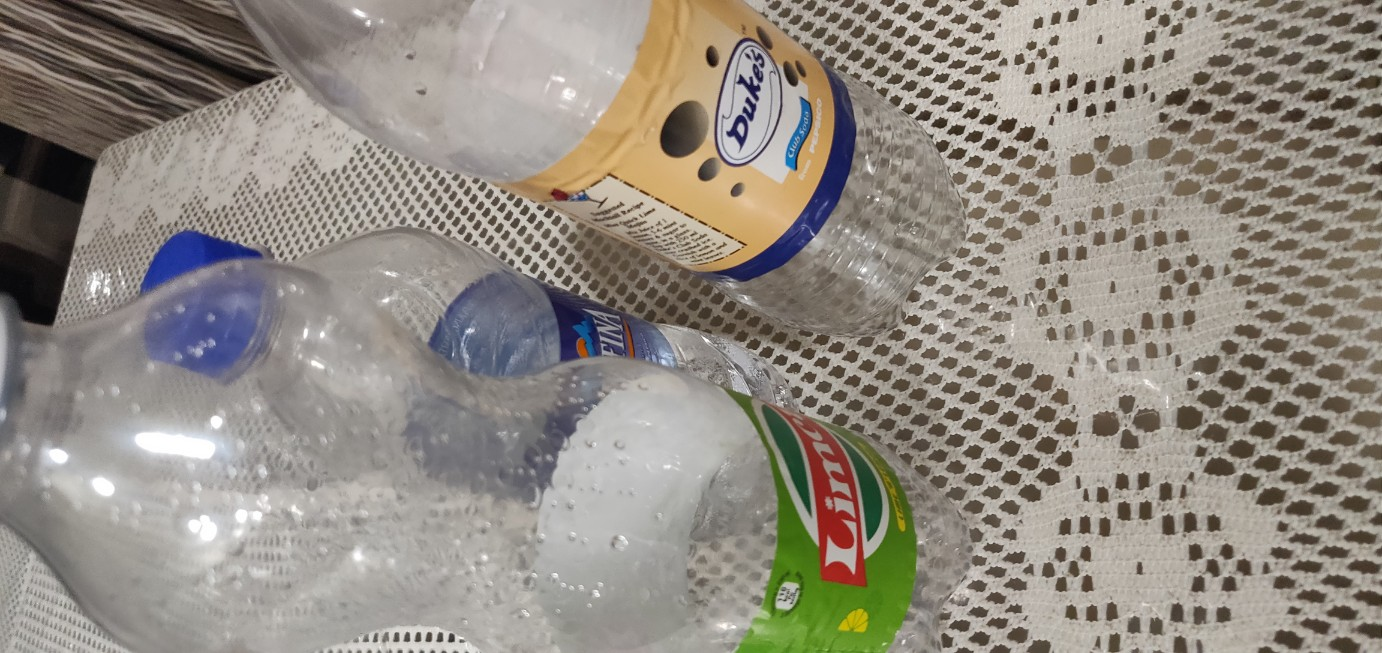Electronics: (2, 247, 1025, 653), (215, 1, 991, 373), (122, 195, 845, 519)
